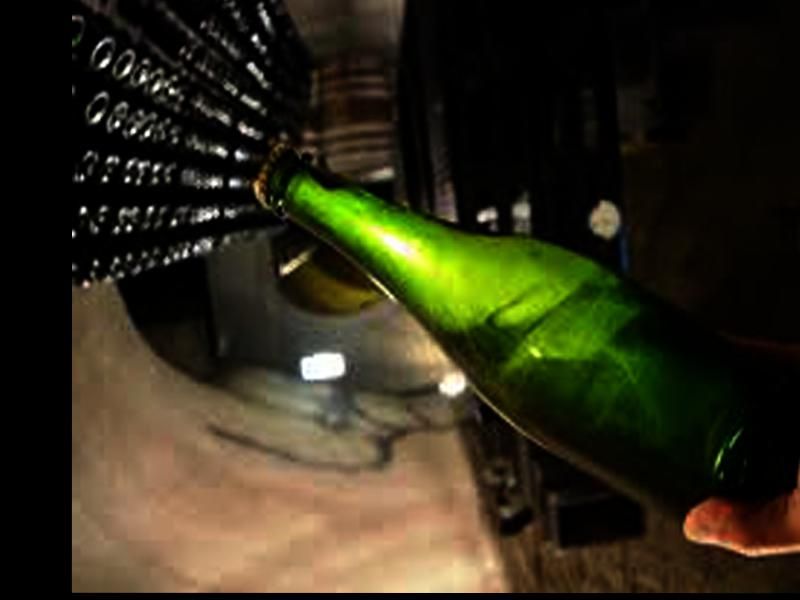Beer: (251, 136, 800, 536)
